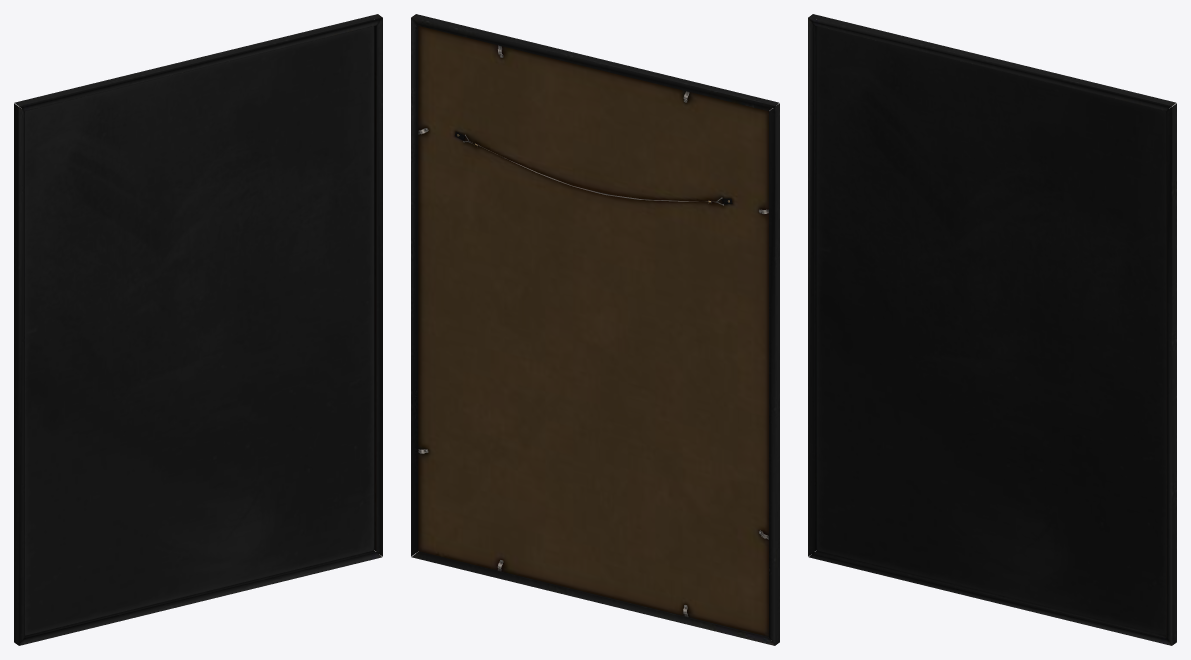
Rendered from ph_hanging_picture_frame_01.glb.
3 renders of one model, left to right at view 1: azimuth 30°, elevation 25°; view 2: azimuth 150°, elevation 25°; view 3: azimuth 330°, elevation 25°, orthographic.
Visible parts, largest first — view 1: hanging_picture_frame_01; view 2: hanging_picture_frame_01; view 3: hanging_picture_frame_01.
Boxes of the visible parts, bbox=[...] form: hanging_picture_frame_01: bbox=[14, 14, 382, 645]; hanging_picture_frame_01: bbox=[411, 14, 779, 645]; hanging_picture_frame_01: bbox=[808, 14, 1176, 645].
Size of the model in its own units: 0.5936 by 0.8406 by 0.0149.
3 materials, 3 textured.
